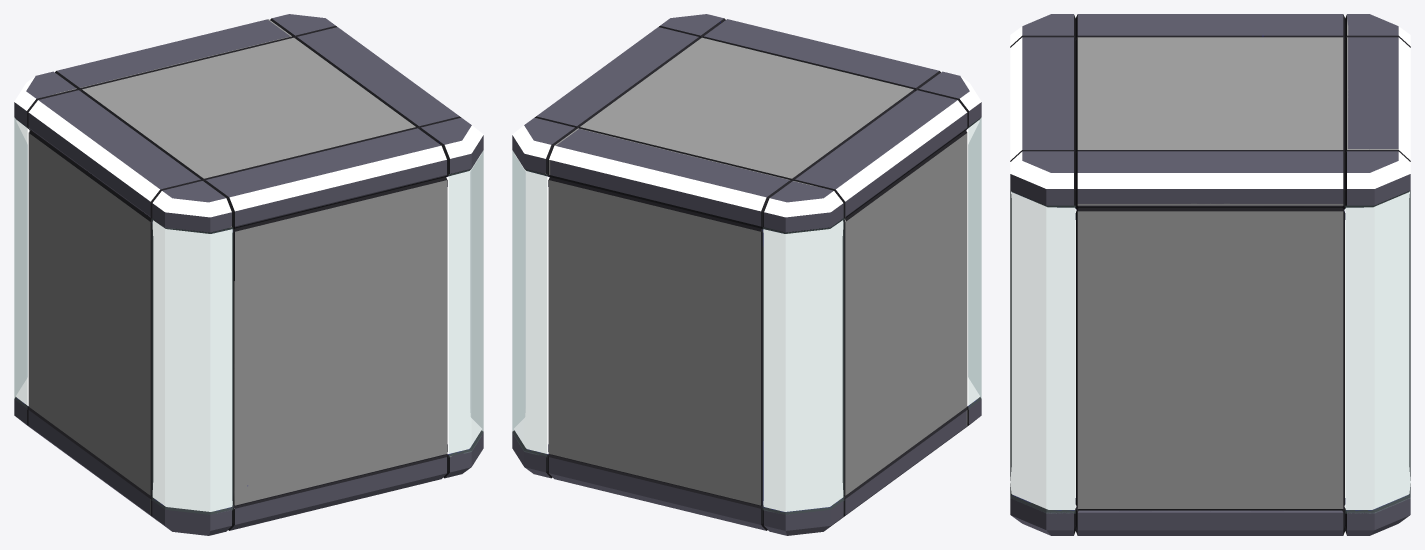
The picture shows the model from 3 angles, left to right: view 1: azimuth 30°, elevation 25°; view 2: azimuth 150°, elevation 25°; view 3: azimuth 270°, elevation 25°; orthographic projection. The views are drawn at different scales.
Visible parts, largest first — view 1: Cube; view 2: Cube; view 3: Cube.
Part boxes in pixels (<box>): Cube: <box>14,14,483,535</box>; Cube: <box>512,14,981,535</box>; Cube: <box>1010,14,1410,535</box>.
Bounding box in the file's own units: 1 × 1 × 1.
Materials: 4 (1 with a texture image).
